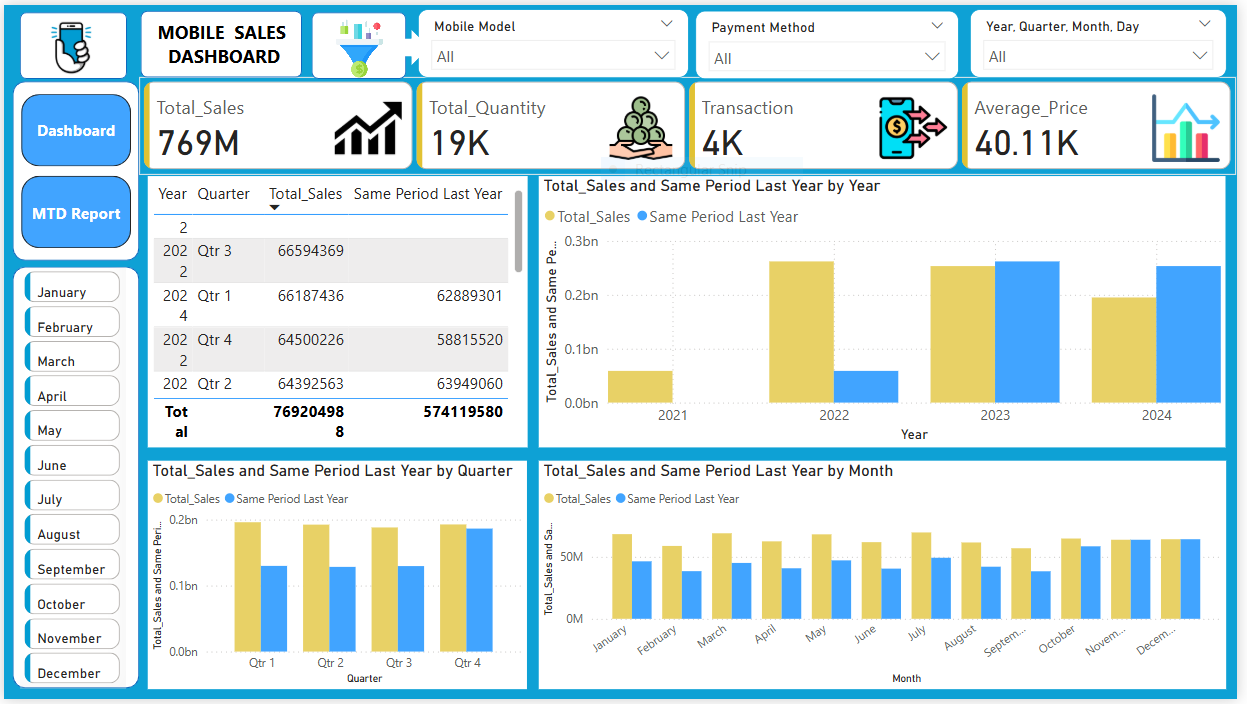

This screenshot's page, from the dashboard's own definition file:
{"tool":"powerbi","page":{"name":"Same Period Last Year","canvas":[1280,720],"ordinal":2},"visuals":[{"type":"shape","box":[15.9,7.2,111.4,69.5],"z":0},{"type":"image","box":[23.2,4.3,91.2,79.6],"z":1000},{"type":"shape","box":[8.7,79.6,131.7,186.7],"z":2000},{"type":"cardVisual","fields":{"Data":["Mobile_Sales_Data.Total_Sales","Mobile_Sales_Data.Total_Quantity","Mobile_Sales_Data.Transaction","Mobile_Sales_Data.Average_Price"]},"box":[140.4,75.3,1138.9,101.3],"z":3000},{"type":"slicer","fields":{"Values":["Mobile_Sales_Data.Mobile Model"]},"box":[429.8,4.3,280.8,70.9],"z":4000},{"type":"slicer","fields":{"Values":["Mobile_Sales_Data.Payment Method"]},"box":[717.8,5.8,273.5,70.9],"z":5000},{"type":"slicer","fields":{"Values":["Custom_Calendar.Date.Variation.Date Hierarchy.Year","Custom_Calendar.Date.Variation.Date Hierarchy.Quarter","Custom_Calendar.Date.Variation.Date Hierarchy.Month","Custom_Calendar.Date.Variation.Date Hierarchy.Day"]},"box":[1002.9,4.3,266.3,70.9],"z":6000},{"type":"shape","box":[319.8,7.2,98.4,69.5],"z":7000},{"type":"image","box":[337.2,10.1,63.7,69.5],"z":8000},{"type":"shape","box":[398,26,43.4,37.6],"z":9000},{"type":"shape","box":[141.8,5.8,167.9,69.5],"z":10000},{"type":"textbox","box":[149.1,10.1,153.4,60.8],"z":11000},{"type":"shape","box":[8.7,272.1,131.7,438.5],"z":12000},{"type":"advancedSlicerVisual","fields":{"Values":["Custom_Calendar.Date.Variation.Date Hierarchy.Month"]},"box":[15.9,272.1,110,438.5],"z":13000},{"type":"tableEx","fields":{"Values":["Custom_Calendar.Date.Variation.Date Hierarchy.Year","Custom_Calendar.Date.Variation.Date Hierarchy.Quarter","Mobile_Sales_Data.Total_Sales","Mobile_Sales_Data.Same Period Last Year"]},"box":[148.6,177.1,394.3,281.4],"z":14000},{"type":"clusteredColumnChart","fields":{"Category":["Custom_Calendar.Date.Variation.Date Hierarchy.Year","Custom_Calendar.Date.Variation.Date Hierarchy.Quarter"],"Y":["Mobile_Sales_Data.Total_Sales","Mobile_Sales_Data.Same Period Last Year"]},"box":[555.7,177.1,712.9,281.4],"z":15000},{"type":"clusteredColumnChart","fields":{"Y":["Mobile_Sales_Data.Total_Sales","Mobile_Sales_Data.Same Period Last Year"],"Category":["Custom_Calendar.Date.Variation.Date Hierarchy.Month"]},"box":[555.2,473.1,713.4,237.3],"z":16000},{"type":"clusteredColumnChart","fields":{"Category":["Custom_Calendar.Date.Variation.Date Hierarchy.Year","Custom_Calendar.Date.Variation.Date Hierarchy.Quarter"],"Y":["Mobile_Sales_Data.Total_Sales","Mobile_Sales_Data.Same Period Last Year"]},"box":[149.3,473.1,394,237.3],"z":17000},{"type":"pageNavigator","box":[17.9,92.5,114.9,161.2],"z":18000}]}

Visuals, with their boxes in screenshot pixels (x1, y1, x2, y2), scaled from the page's 1280x720 canvas onto the 1247x704 screenshot:
shape: [15,7,124,75]
image: [23,4,111,82]
shape: [8,78,137,260]
cardVisual - Mobile_Sales_Data.Total_Sales x Mobile_Sales_Data.Total_Quantity: [137,74,1246,173]
slicer - Mobile_Sales_Data.Mobile Model: [419,4,692,74]
slicer - Mobile_Sales_Data.Payment Method: [699,6,966,75]
slicer - Custom_Calendar.Date.Variation.Date Hierarchy.Year x Custom_Calendar.Date.Variation.Date Hierarchy.Quarter: [977,4,1236,74]
shape: [312,7,407,75]
image: [329,10,391,78]
shape: [388,25,430,62]
shape: [138,6,302,74]
textbox: [145,10,295,69]
shape: [8,266,137,695]
advancedSlicerVisual - Custom_Calendar.Date.Variation.Date Hierarchy.Month: [15,266,123,695]
tableEx - Custom_Calendar.Date.Variation.Date Hierarchy.Year x Custom_Calendar.Date.Variation.Date Hierarchy.Quarter: [145,173,529,448]
clusteredColumnChart - Custom_Calendar.Date.Variation.Date Hierarchy.Year x Custom_Calendar.Date.Variation.Date Hierarchy.Quarter: [541,173,1236,448]
clusteredColumnChart - Mobile_Sales_Data.Total_Sales x Mobile_Sales_Data.Same Period Last Year: [541,463,1236,695]
clusteredColumnChart - Custom_Calendar.Date.Variation.Date Hierarchy.Year x Custom_Calendar.Date.Variation.Date Hierarchy.Quarter: [145,463,529,695]
pageNavigator: [17,90,129,248]
